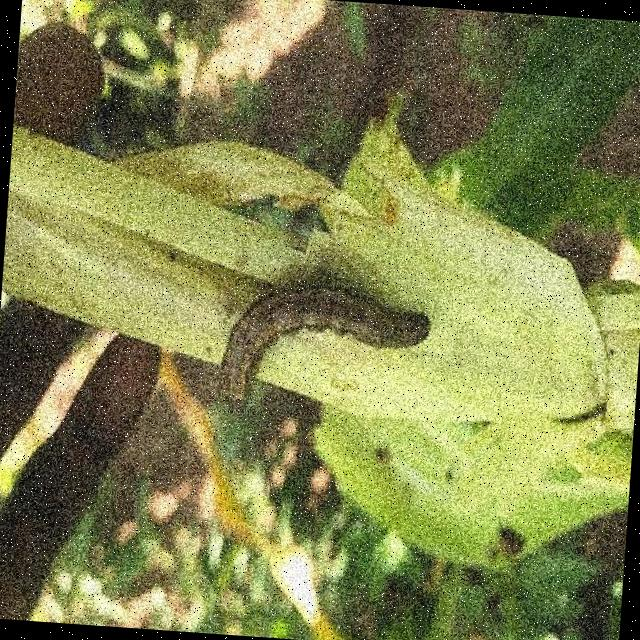worm: (218, 278, 436, 418)
